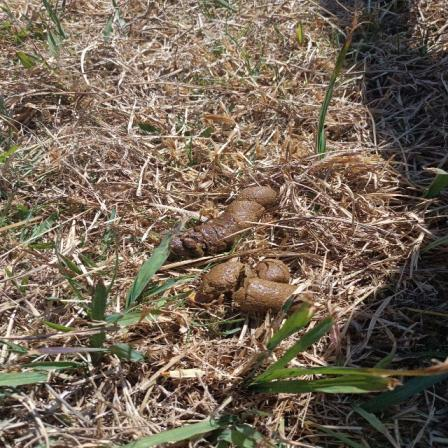dog-poop: (168, 177, 280, 249), (192, 261, 315, 314)
